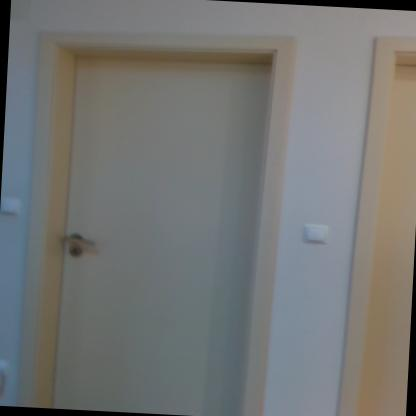closed: (13, 14, 328, 415)
